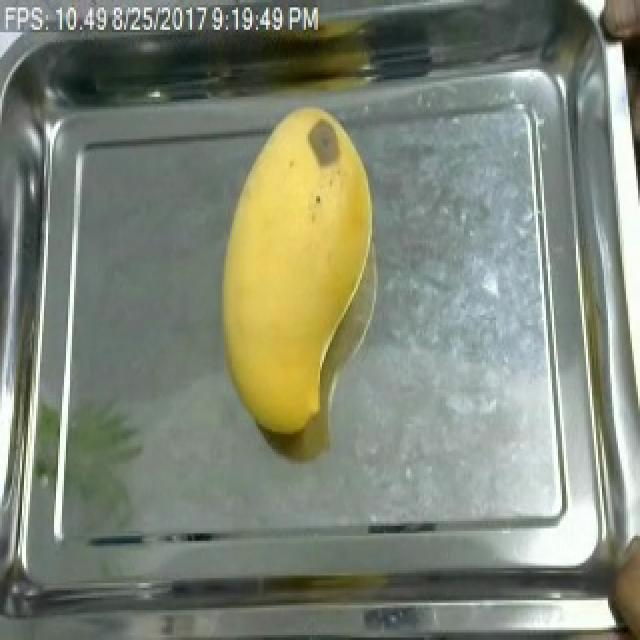fruit: (202, 99, 388, 449), (600, 506, 640, 640), (586, 0, 640, 50)
